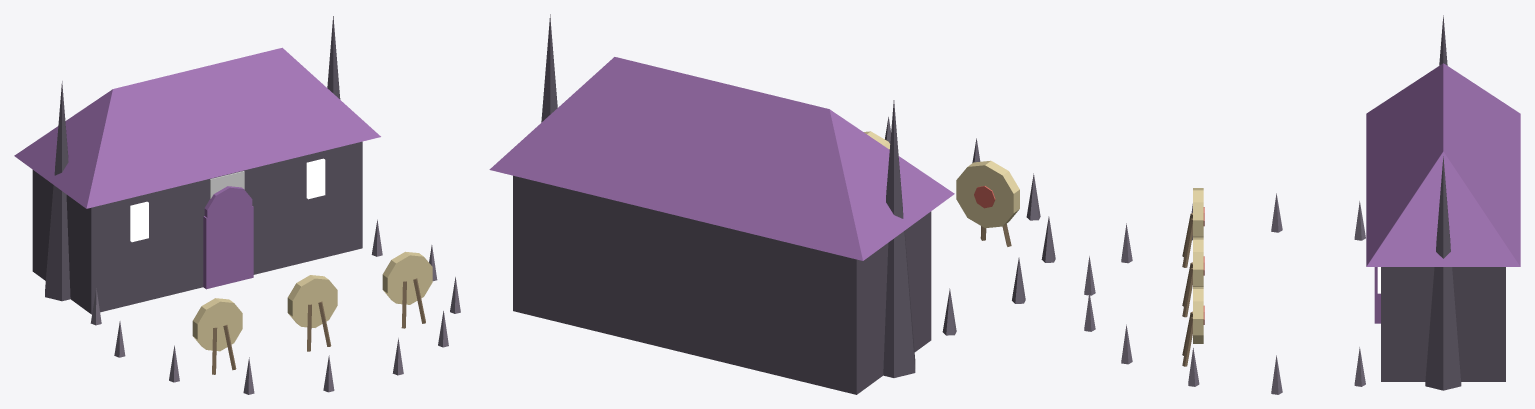
The picture shows the model from 3 angles, left to right: view 1: azimuth 30°, elevation 25°; view 2: azimuth 150°, elevation 25°; view 3: azimuth 270°, elevation 25°; orthographic projection. The views are drawn at different scales.
Parts seen in each view (by area): view 1: body; view 2: body; view 3: body.
Boxes of the visible parts, x1=… form: body: x1=14, y1=16, x2=460, y2=394; body: x1=489, y1=14, x2=1055, y2=394; body: x1=1084, y1=15, x2=1520, y2=394.
Size of the model in its own units: 9.49 by 6.01 by 10.46.
